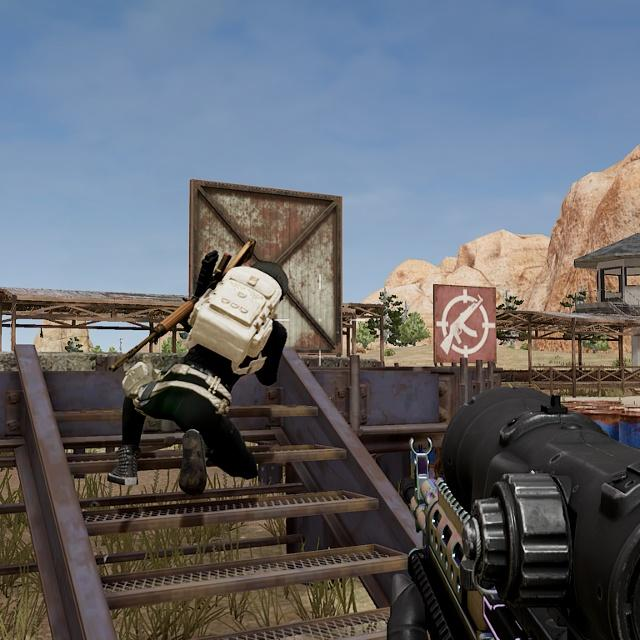head: (226, 248, 293, 322)
people: (103, 242, 293, 502)
